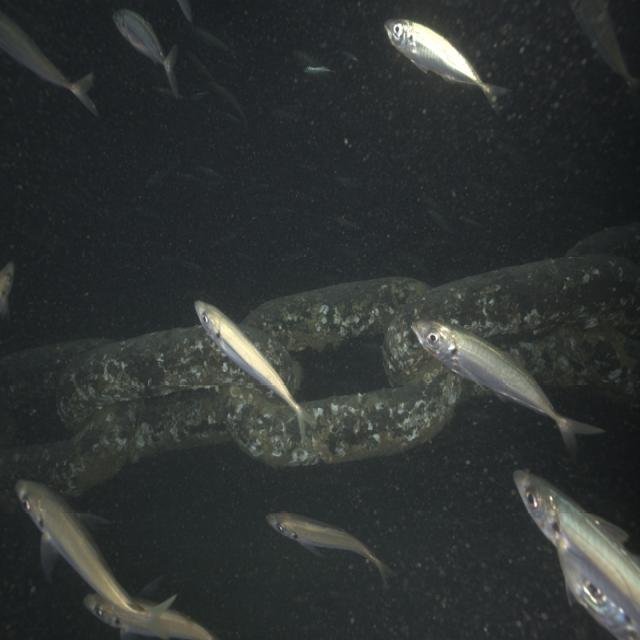ChainLink: (385, 256, 640, 385), (224, 362, 468, 467), (56, 326, 252, 428), (0, 402, 138, 509), (245, 277, 429, 351), (0, 338, 110, 449), (501, 325, 640, 404), (118, 390, 228, 462), (258, 332, 292, 383)
